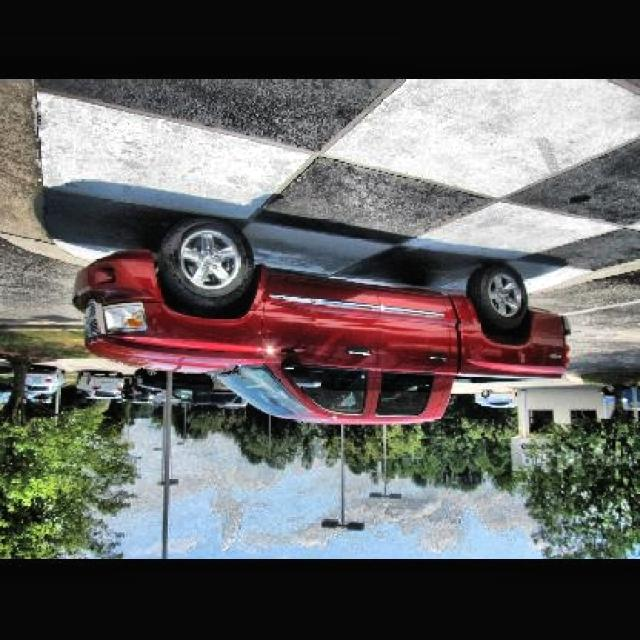maroon: (74, 220, 573, 421)
